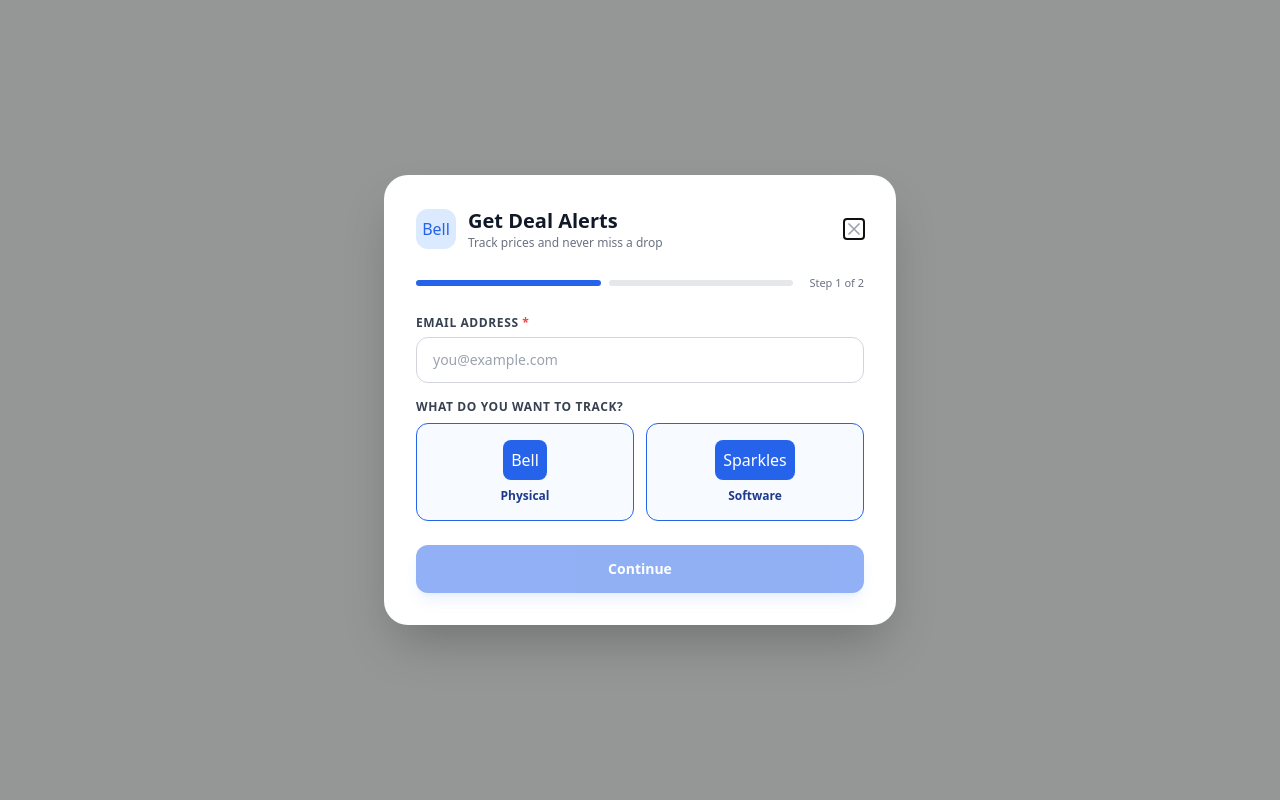
Test: SubscribeModal › advances to step 2 after filling email and selecting category
This screenshot has width=1280, height=800.
Type "test@example.com" into the field labelled "Email Address *".
click(640, 360); type("test@example.com")  # box [416,337,864,383]
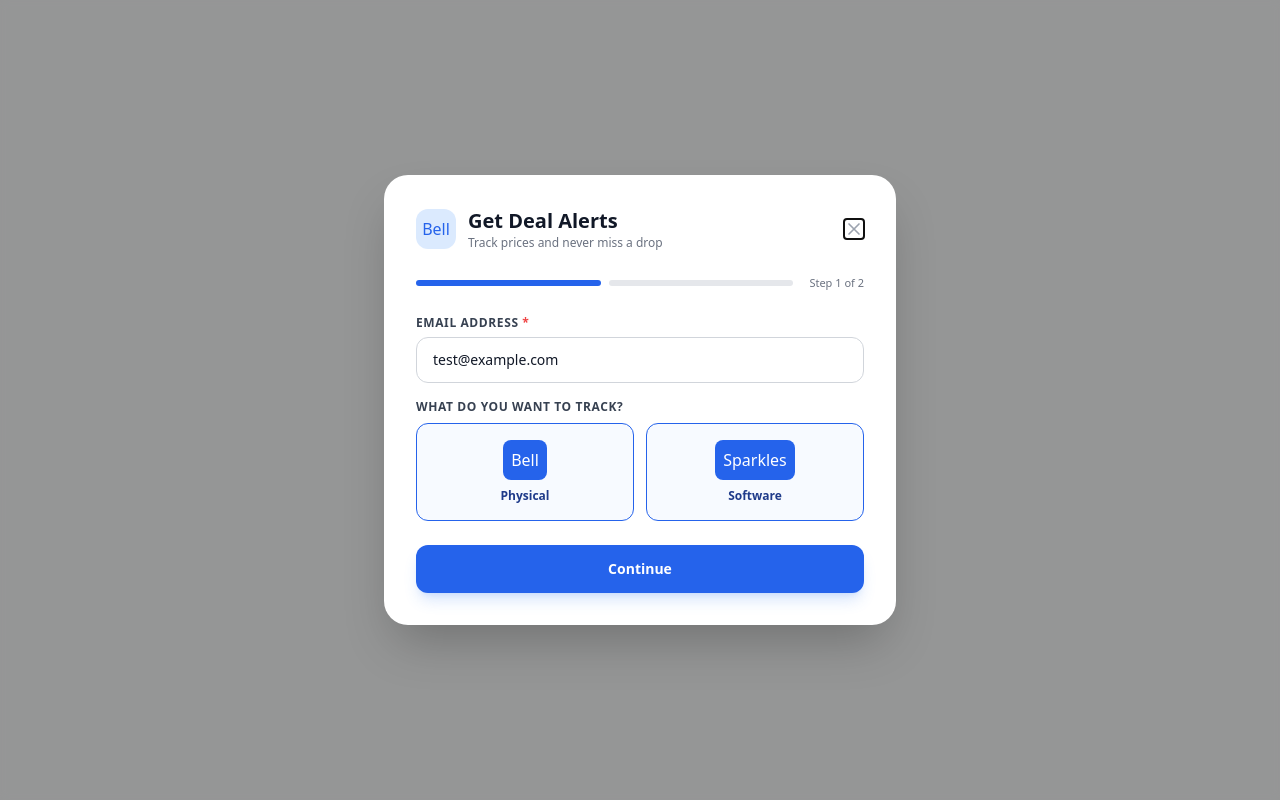
Click the text "Physical".
click(525, 496)  # box [500,488,550,504]
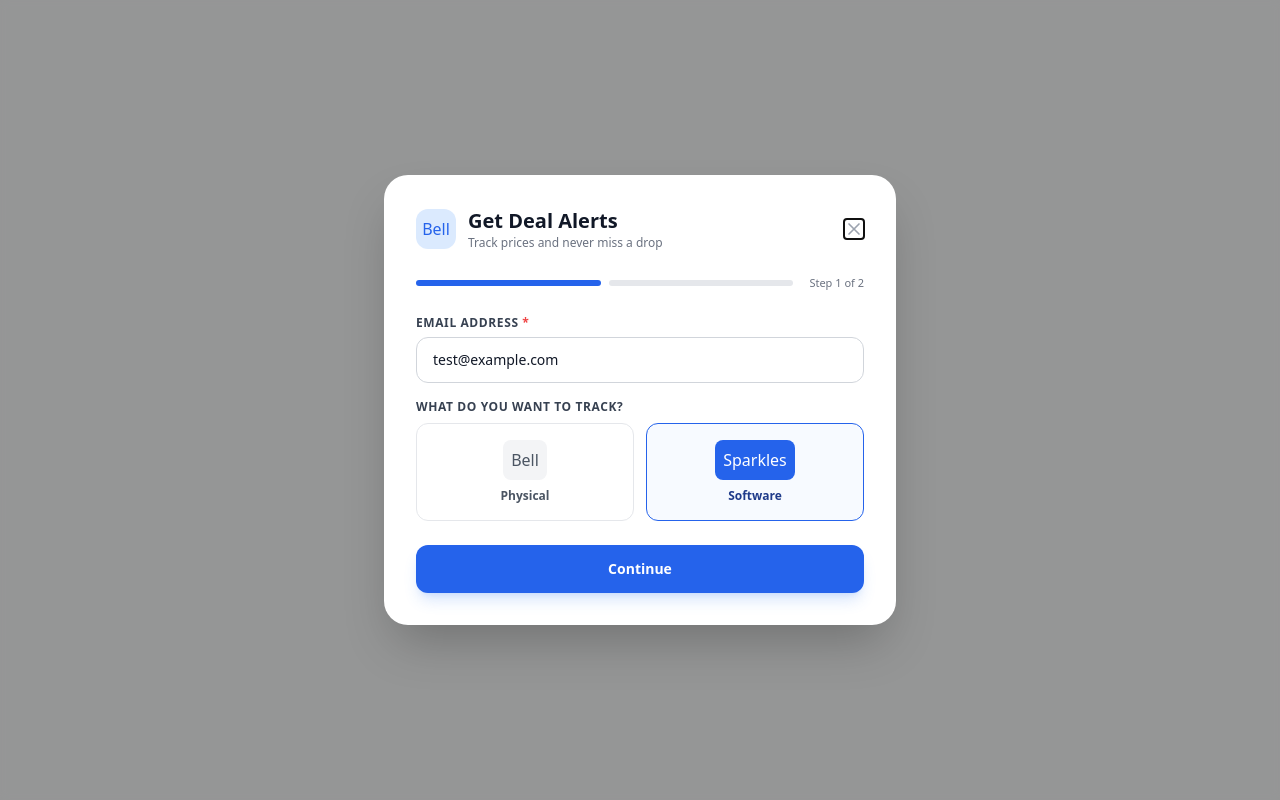
Click the button "Continue".
click(640, 569)  # box [416,545,864,593]
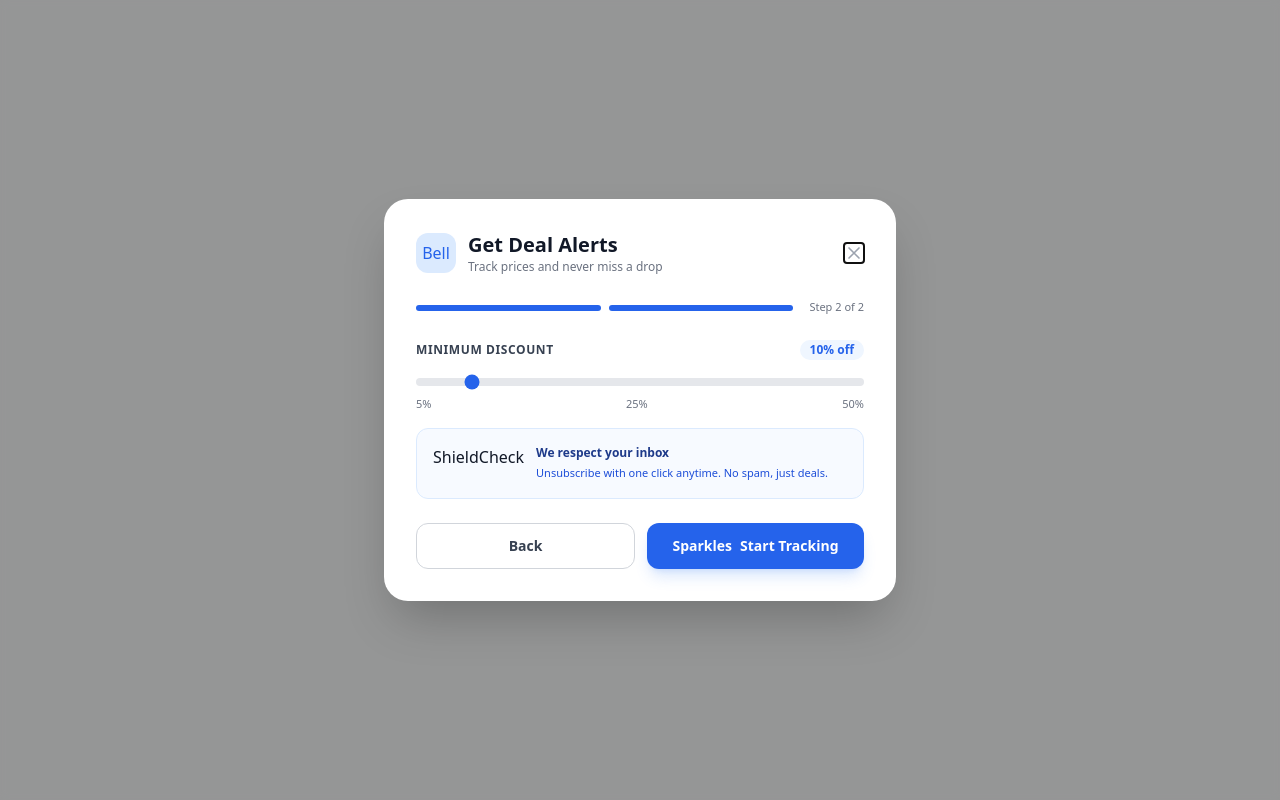
Expected: the text "Minimum Discount" is shown, [416,342,554,358]
